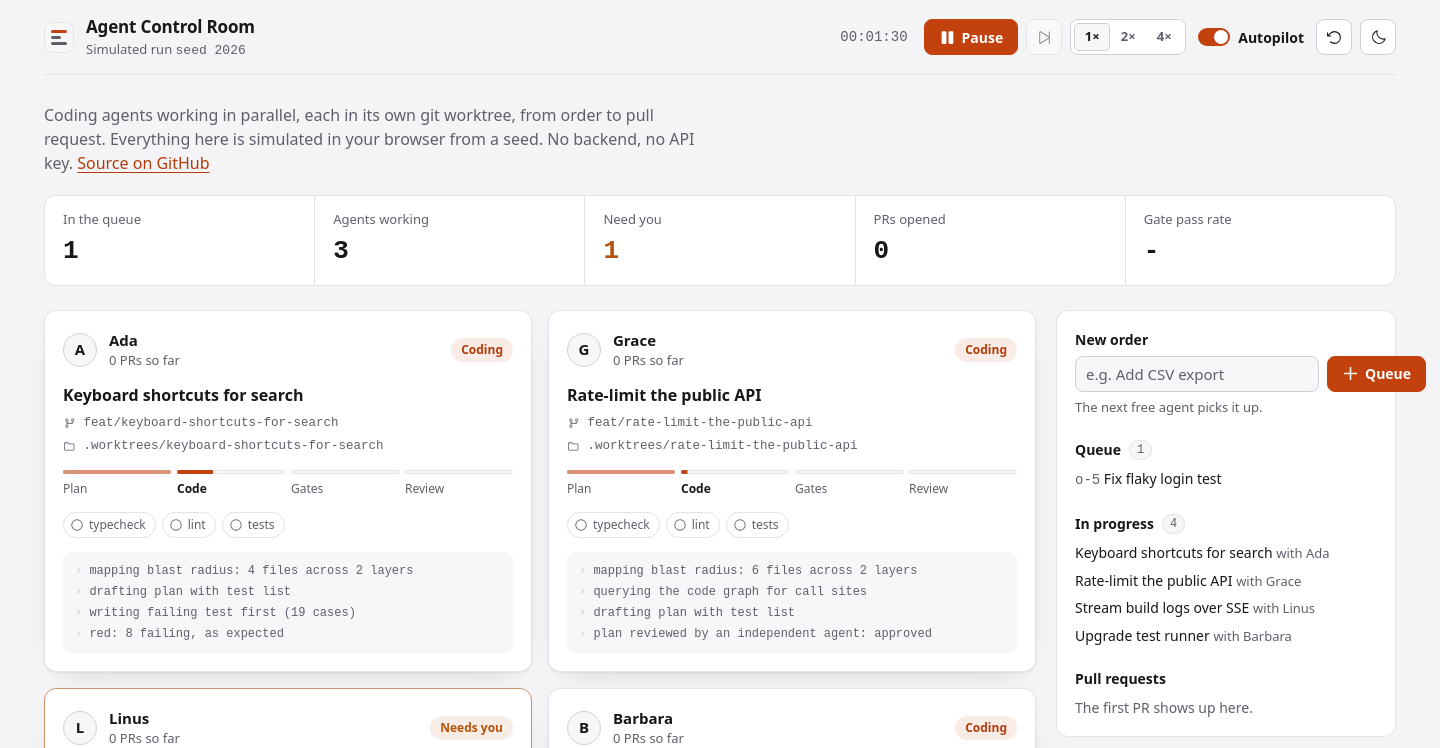
Test: App › lets you unblock an agent that needs you
Click the button "Pause": (971, 37) [924,19,1018,55]
(page scrolled)
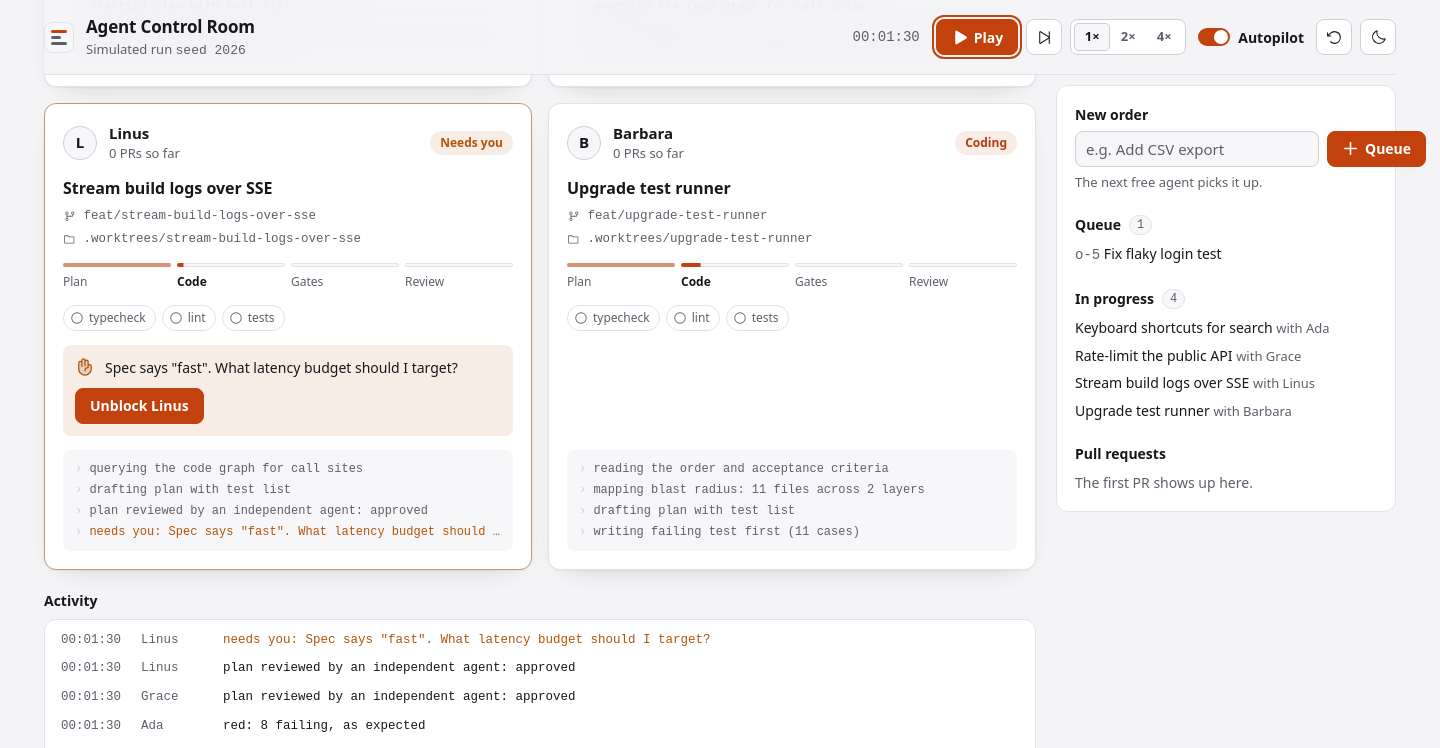
Click the button "Unblock Linus": (139, 406) [75,388,204,424]
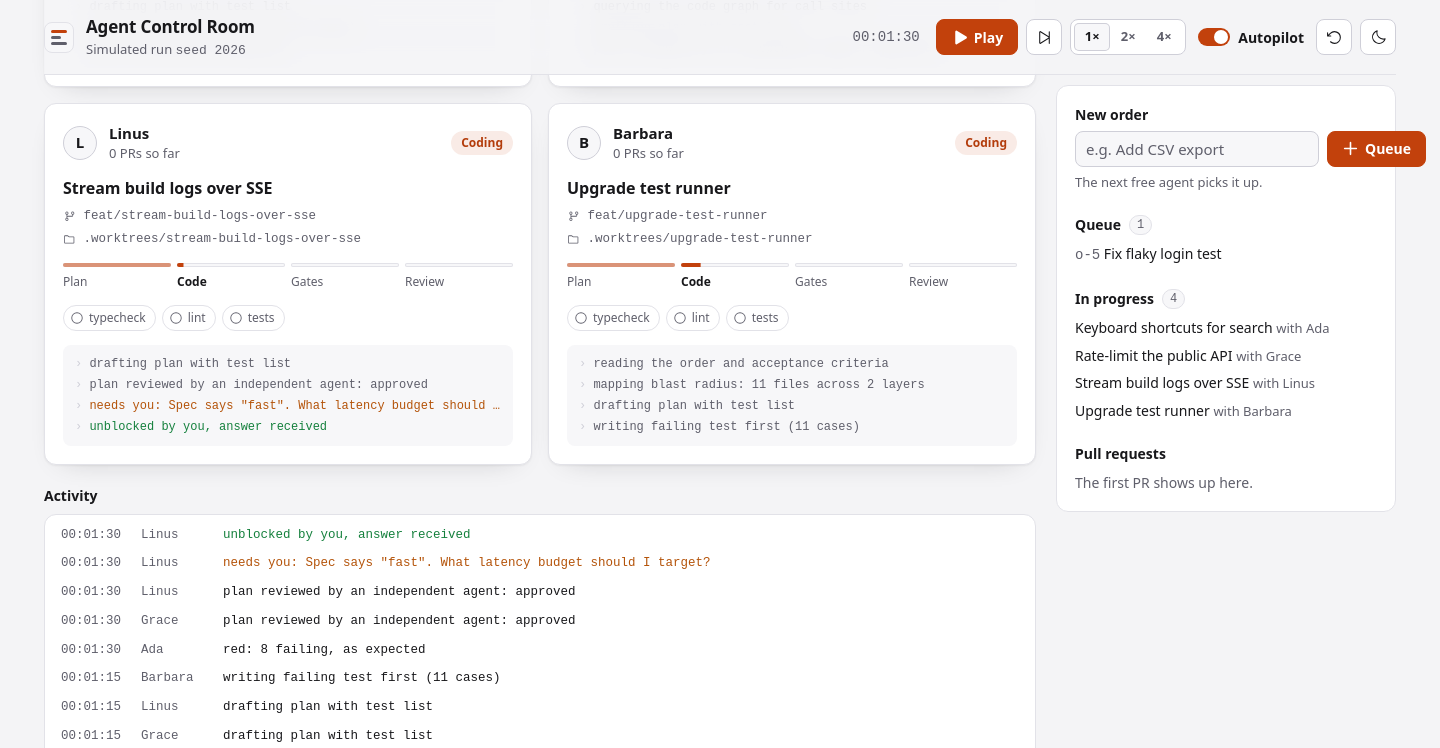
Now no buttons "Unblock " are shown
